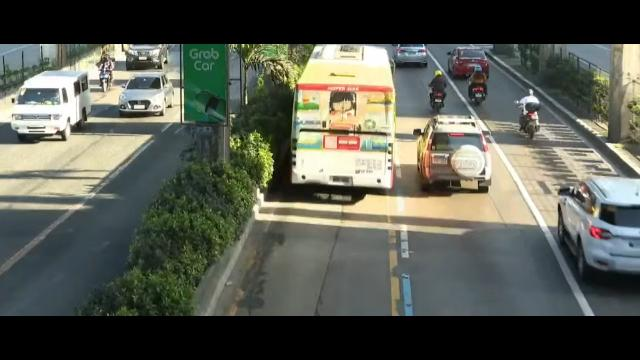bus: (288, 43, 394, 205)
car: (557, 168, 640, 274), (413, 116, 494, 192), (120, 69, 174, 117), (446, 41, 488, 75), (124, 43, 169, 73), (395, 44, 429, 72)
motorcycle: (518, 88, 540, 143), (427, 69, 448, 112), (468, 65, 489, 105), (96, 52, 114, 95)
van: (11, 70, 91, 141)
